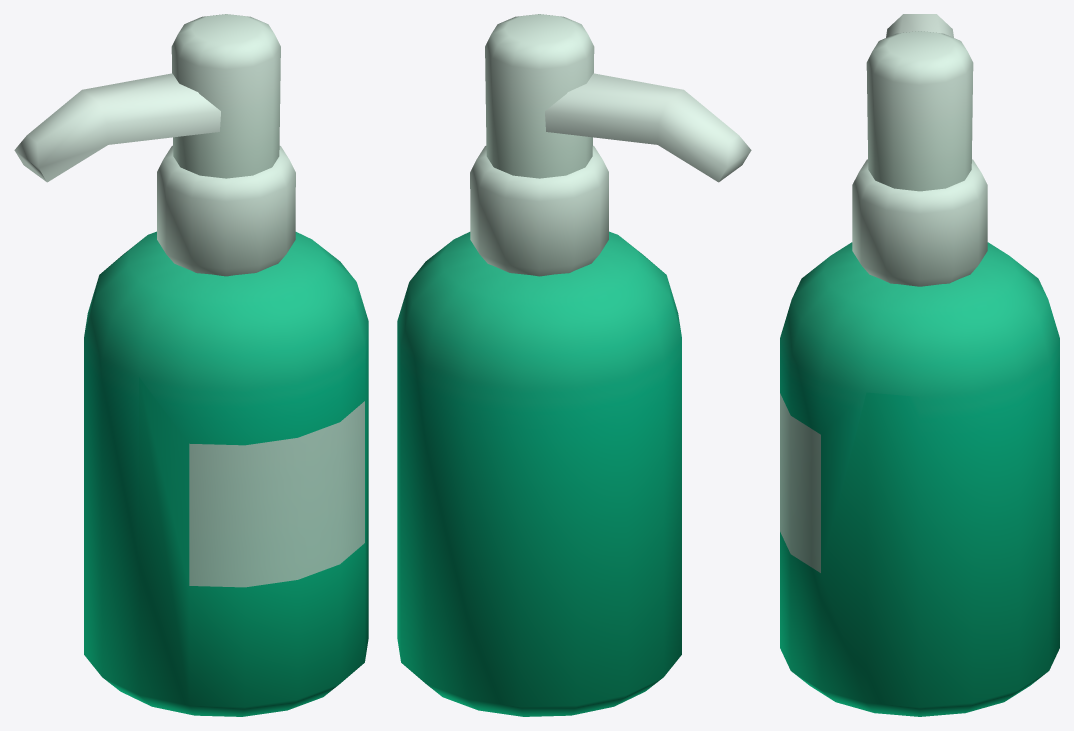
The model's file is Cream_002.fbx.
3 views of the same model, side by side, from view 1: azimuth 30°, elevation 25°; view 2: azimuth 150°, elevation 25°; view 3: azimuth 270°, elevation 25° (orthographic). The views are drawn at different scales.
Parts seen in each view (by area): view 1: Cream_002; view 2: Cream_002; view 3: Cream_002.
Boxes of the visible parts, box(x1,y1,x2,y2) form: Cream_002: box(14, 14, 368, 716); Cream_002: box(397, 14, 751, 716); Cream_002: box(780, 14, 1059, 716).
Bounding box in the file's own units: 12.74 × 9.77 × 23.93.
